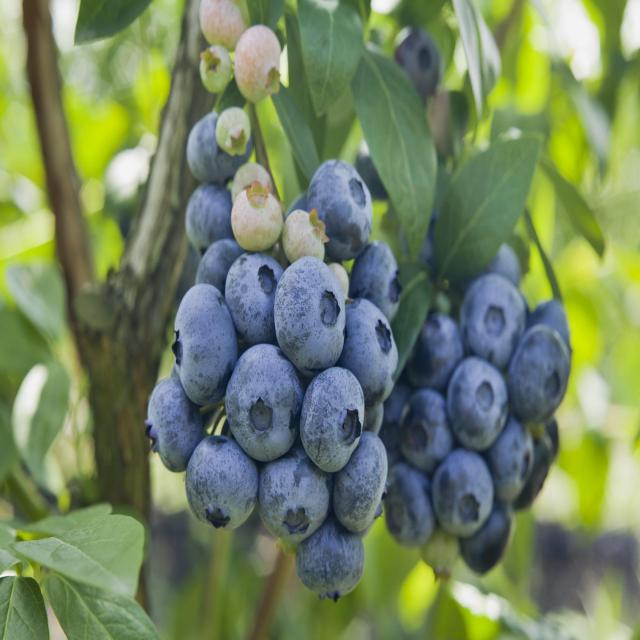BlueBerry - v1: (220, 341, 308, 465), (272, 249, 348, 377), (252, 446, 339, 553), (299, 147, 378, 264), (184, 424, 264, 538), (172, 279, 240, 406), (335, 285, 402, 409), (440, 343, 511, 455), (292, 362, 361, 476), (139, 369, 210, 478), (504, 321, 574, 427), (294, 512, 372, 607), (324, 424, 389, 532), (457, 268, 527, 367), (179, 107, 254, 191), (430, 446, 496, 541), (224, 244, 287, 342), (406, 298, 466, 394), (380, 456, 440, 552), (231, 14, 290, 110), (350, 230, 404, 329), (455, 500, 514, 590), (398, 384, 455, 472), (224, 178, 288, 255), (179, 184, 238, 262), (487, 414, 537, 504), (273, 202, 331, 279), (195, 0, 265, 62), (212, 94, 256, 162), (199, 40, 238, 99)
